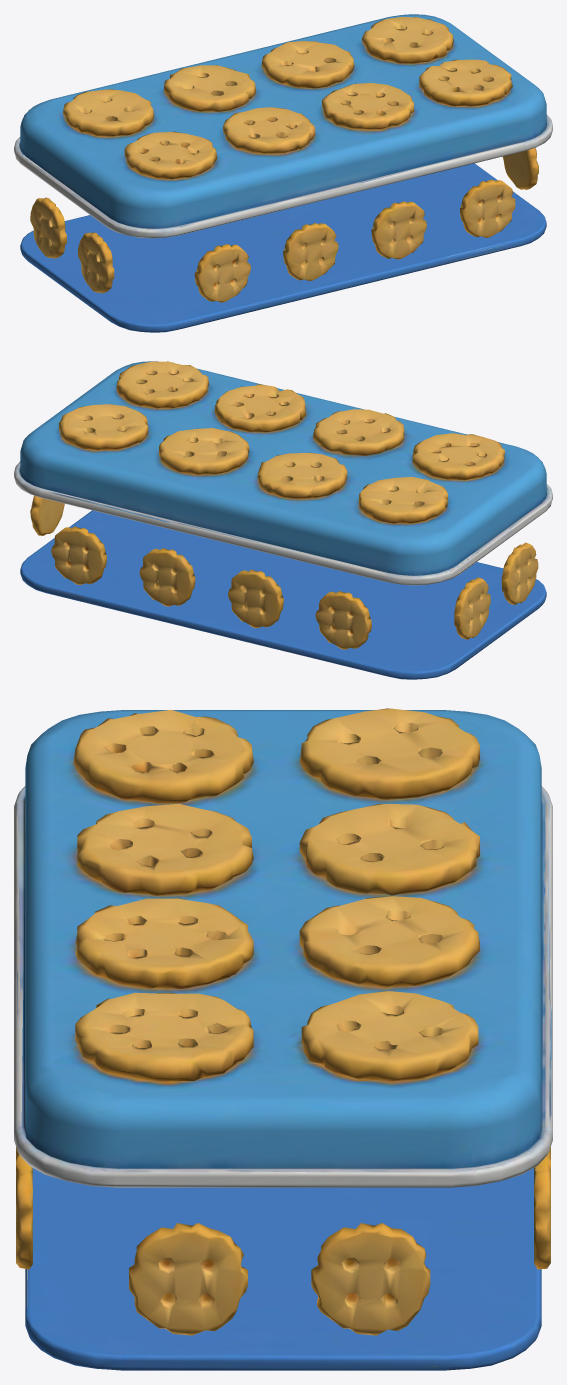
3 renders of one model, top to bottom at view 1: azimuth 30°, elevation 25°; view 2: azimuth 150°, elevation 25°; view 3: azimuth 270°, elevation 25°, orthographic. The views are drawn at different scales.
Visible parts, largest first — view 1: tripo_node_c9fa6df0-7277-4117-aa3c-962fd6e9c3b5; view 2: tripo_node_c9fa6df0-7277-4117-aa3c-962fd6e9c3b5; view 3: tripo_node_c9fa6df0-7277-4117-aa3c-962fd6e9c3b5.
Boxes of the visible parts, left/top/right/bottom form: tripo_node_c9fa6df0-7277-4117-aa3c-962fd6e9c3b5: left=14, top=14, right=552, bottom=332; tripo_node_c9fa6df0-7277-4117-aa3c-962fd6e9c3b5: left=14, top=361, right=552, bottom=679; tripo_node_c9fa6df0-7277-4117-aa3c-962fd6e9c3b5: left=14, top=708, right=552, bottom=1370.
Size of the model in its own units: 0.998 by 0.3262 by 0.5488.
Materials: 1 (1 with a texture image).
